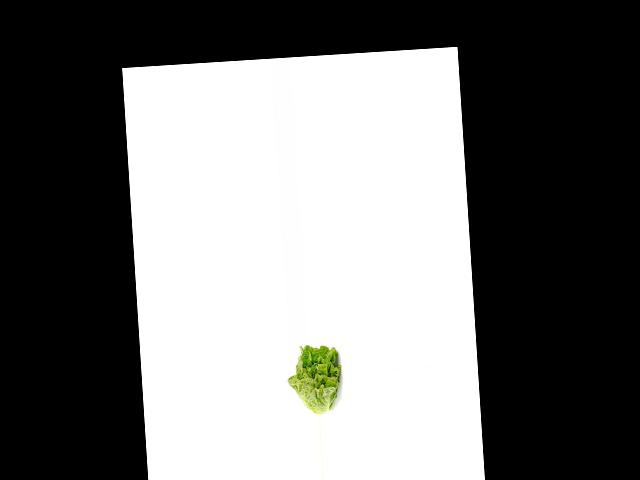lettuce: (286, 343, 347, 416)
